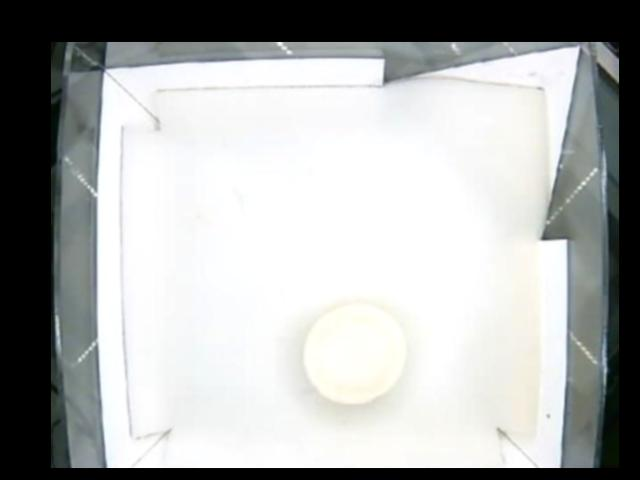Mooli: (303, 305, 407, 405)
